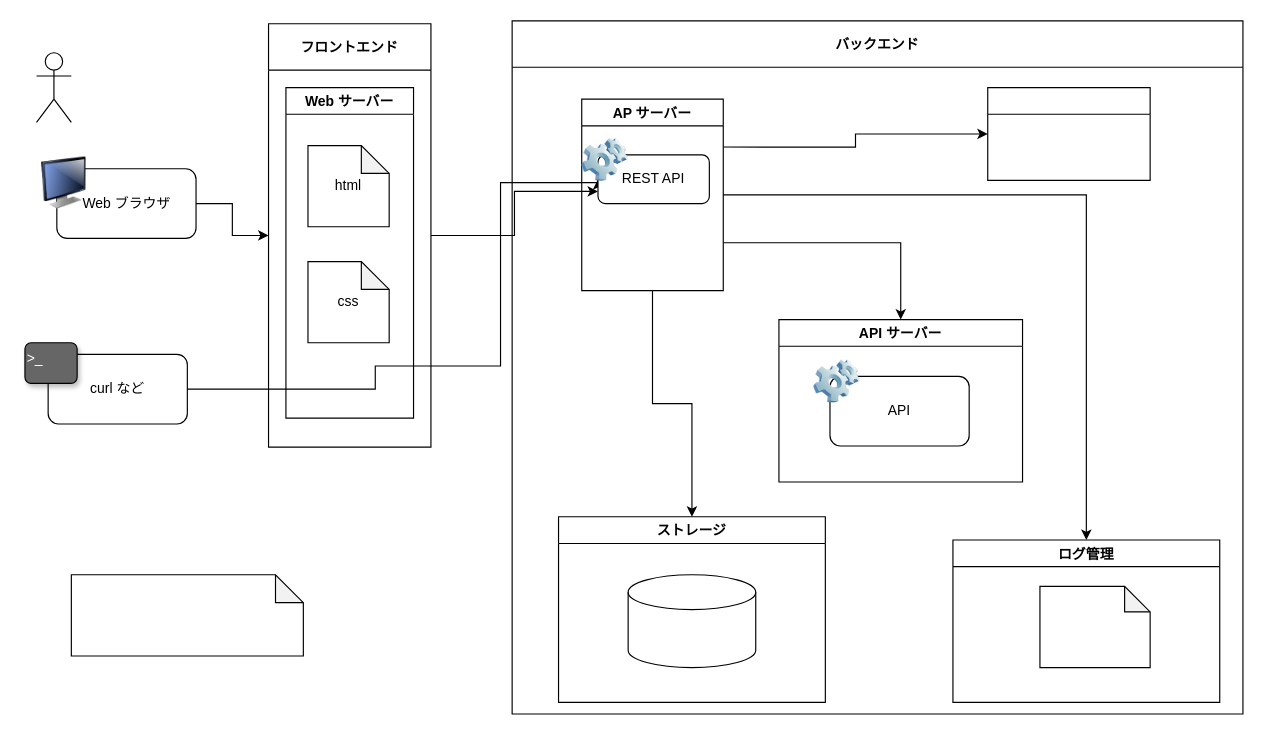
The diagram is 1263 pixels wide and 734 high, and some of its shapes have lost their labels. The shapes that lost their labels are listed below. From the top down, each one's centre as x and y in pixels, then its label:
(53,87): ユーザー
(1068,133): 認証／認可
(186,615): 設定ファイル （基本、全ての機能に含まれる）
(691,621): DB
(1094,626): ログファイル
